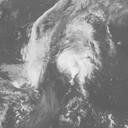cyclone: (54, 29, 99, 86)
